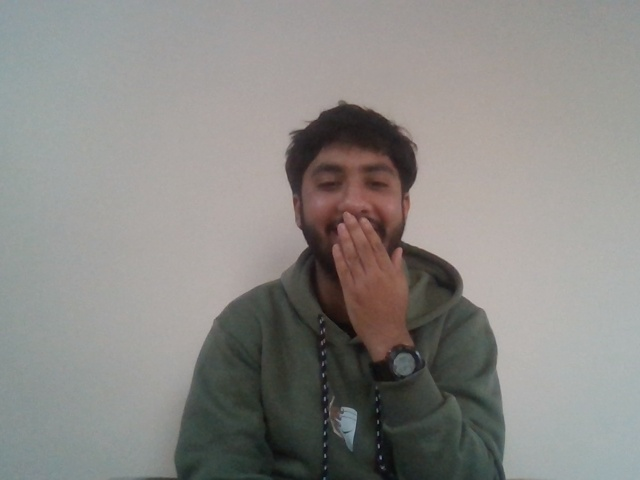Thanks: (294, 209, 460, 323)
